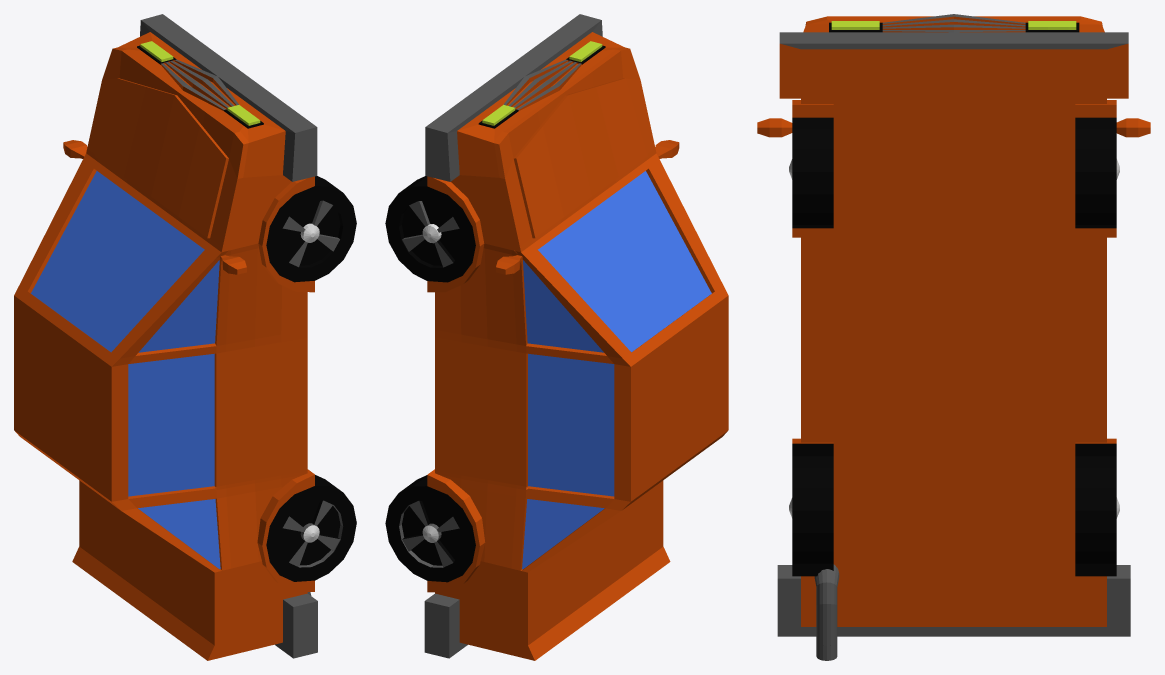
The model's file is orange_car.gltf.
3 views of the same model, side by side, from view 1: azimuth 30°, elevation 25°; view 2: azimuth 150°, elevation 25°; view 3: azimuth 270°, elevation 25° (orthographic). The views are drawn at different scales.
Parts seen in each view (by area): view 1: Car7; view 2: Car7; view 3: Car7.
Part boxes in pixels (bbox=[...]): Car7: bbox=[14, 14, 356, 660]; Car7: bbox=[385, 14, 728, 660]; Car7: bbox=[757, 14, 1150, 660].
Size of the model in its own units: 0.5396 by 1.25 by 0.7311.
